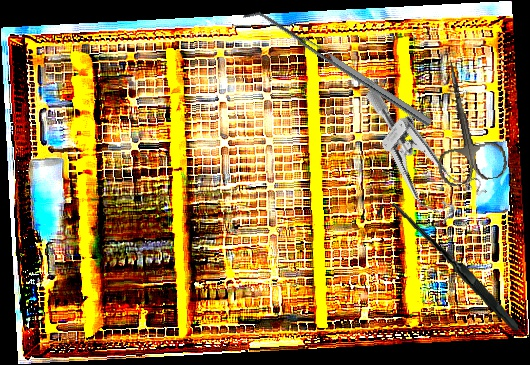Hook Surgical: (376, 193, 519, 342)
Iris Scissors: (418, 53, 510, 189)
Spatula Surgical: (242, 2, 433, 135)
Speculum: (332, 87, 496, 233)
